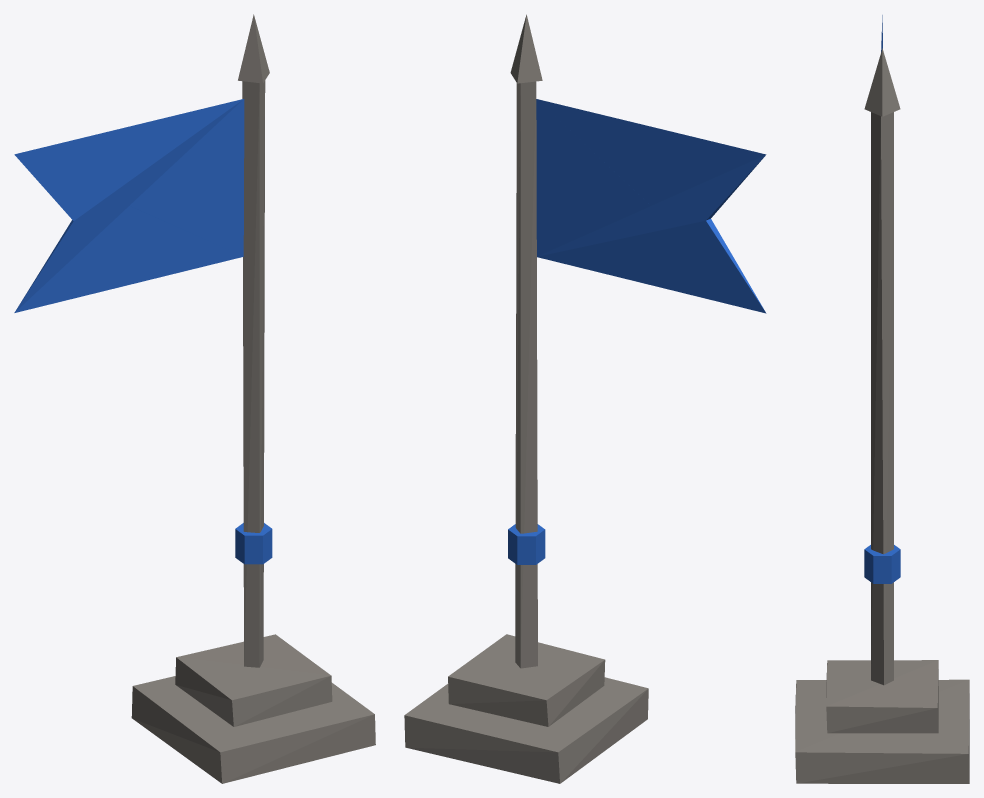
The model's file is rally_flag_lod1.obj.
The picture shows the model from 3 angles, left to right: view 1: azimuth 30°, elevation 25°; view 2: azimuth 150°, elevation 25°; view 3: azimuth 270°, elevation 25°; orthographic projection. The views are drawn at different scales.
Parts seen in each view (by area): view 1: rally_flag_lod1; view 2: rally_flag_lod1; view 3: rally_flag_lod1.
Boxes of the visible parts, left/top/right/bottom form: rally_flag_lod1: left=14, top=14, right=375, bottom=783; rally_flag_lod1: left=404, top=14, right=766, bottom=783; rally_flag_lod1: left=795, top=15, right=969, bottom=783.
Size of the model in its own units: 1.38 by 2.99 by 0.675.
